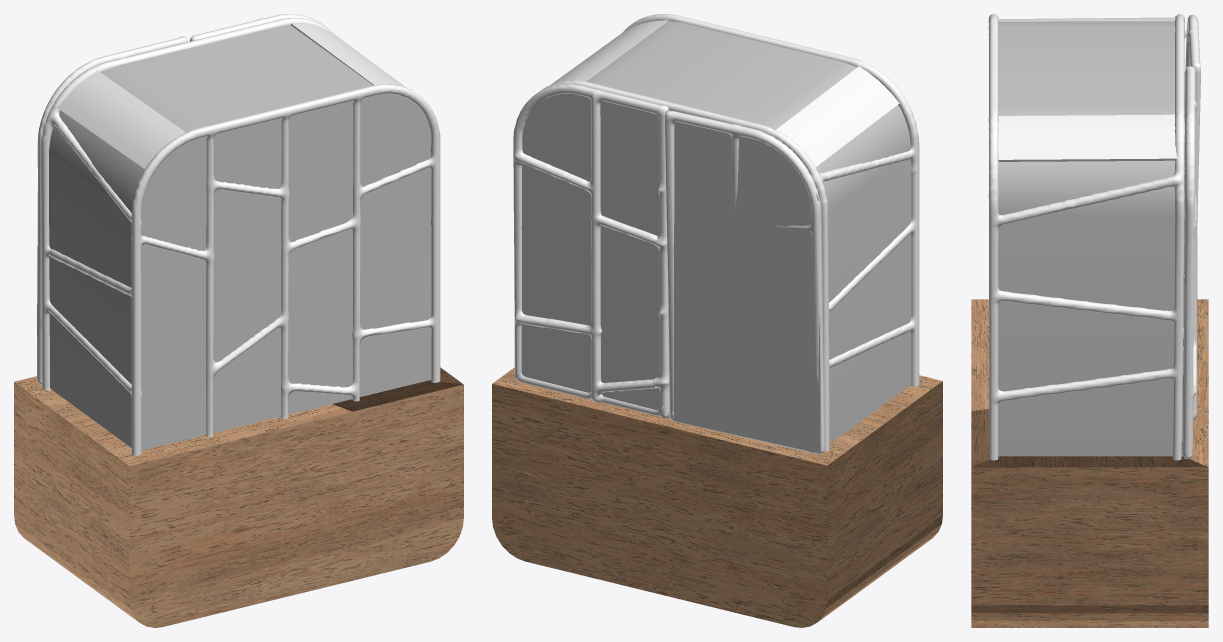
Rendered from greenhouse.fbx.
The picture shows the model from 3 angles, left to right: view 1: azimuth 30°, elevation 25°; view 2: azimuth 150°, elevation 25°; view 3: azimuth 270°, elevation 25°; orthographic projection. The views are drawn at different scales.
Visible parts, largest first — view 1: Cube_3, sol, Volume_Mesher, enceinte_2, porte_droite, enceinte_1, Porte_Gauche; view 2: sol, Extrude, Cube_3, Extrude_2, Porte_Gauche, Volume_Mesher, porte_droite, enceinte_2, enceinte_1; view 3: Cube_3, sol, Volume_Mesher, enceinte_1, Porte_Gauche, porte_droite, enceinte_2.
Boxes of the visible parts, x1,y1,x2,y2 form: Cube_3: (49, 25, 431, 450); sol: (14, 367, 463, 627); Volume_Mesher: (41, 18, 440, 455); enceinte_2: (57, 70, 185, 168); porte_droite: (37, 36, 187, 384); enceinte_1: (291, 23, 407, 88); Porte_Gauche: (189, 14, 324, 41); sol: (492, 367, 942, 627); Extrude: (673, 121, 821, 452); Cube_3: (586, 21, 911, 443); Extrude_2: (521, 93, 659, 409); Porte_Gauche: (513, 84, 669, 418); Volume_Mesher: (541, 14, 919, 451); porte_droite: (665, 110, 824, 454); enceinte_2: (776, 66, 899, 167); enceinte_1: (551, 20, 668, 84); Cube_3: (998, 21, 1175, 456); sol: (971, 299, 1208, 627); Volume_Mesher: (988, 14, 1186, 460); enceinte_1: (998, 114, 1178, 161); Porte_Gauche: (1182, 66, 1197, 459); porte_droite: (1183, 14, 1200, 349); enceinte_2: (998, 17, 1175, 21).
Size of the model in its own units: 447 by 612 by 267.
Materials: 5 (3 with a texture image).
